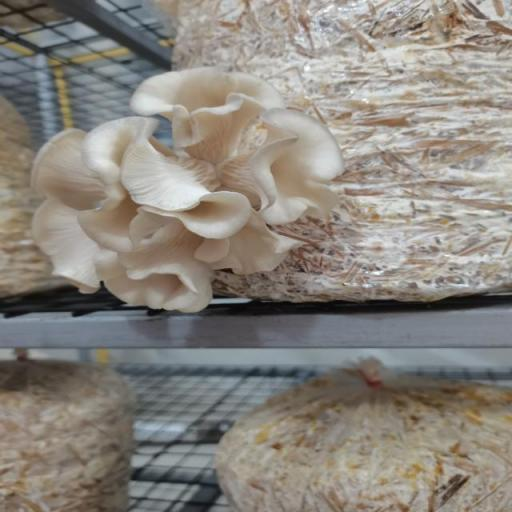White Oyster Mushroom: (23, 61, 342, 314)
